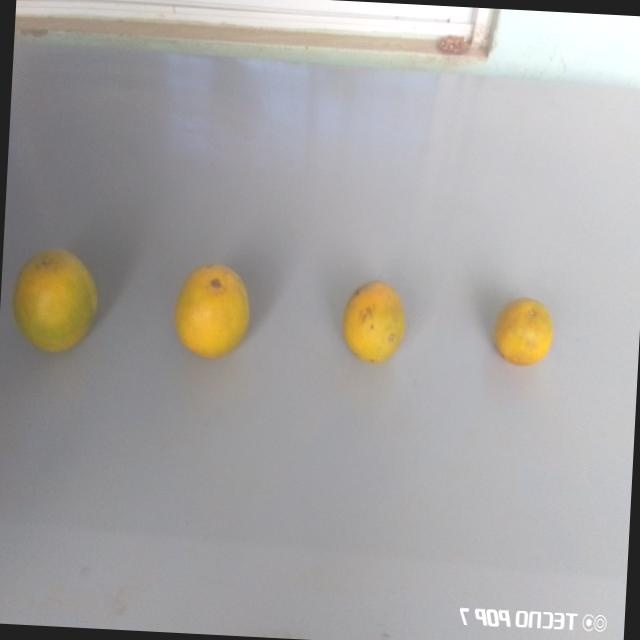agrume: (8, 232, 108, 362), (167, 257, 261, 367), (338, 275, 414, 373), (490, 289, 559, 369)
